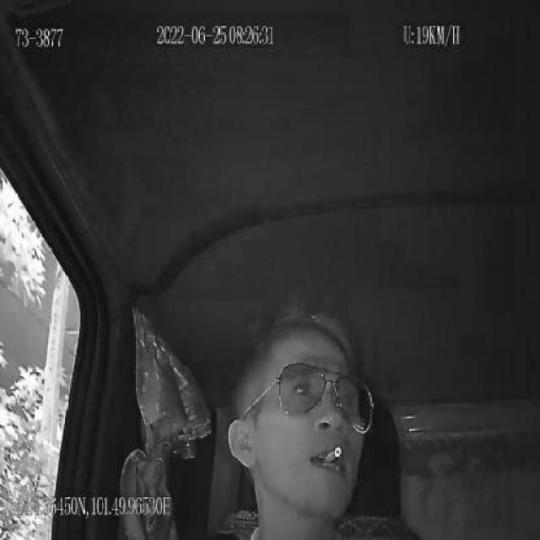smoking: (322, 445, 343, 469)
